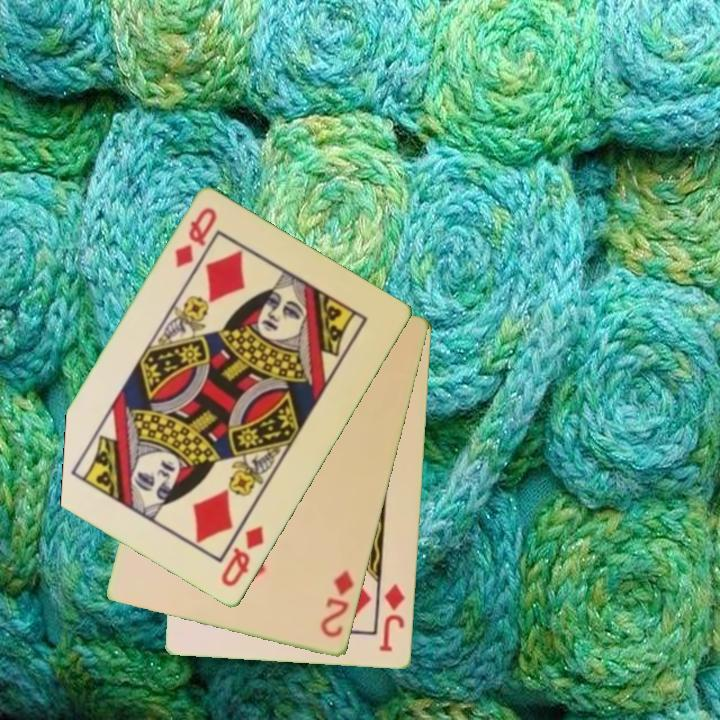2d: (317, 567, 357, 641)
Jd: (376, 580, 408, 655)
Qd: (217, 522, 268, 591), (171, 204, 220, 272)
